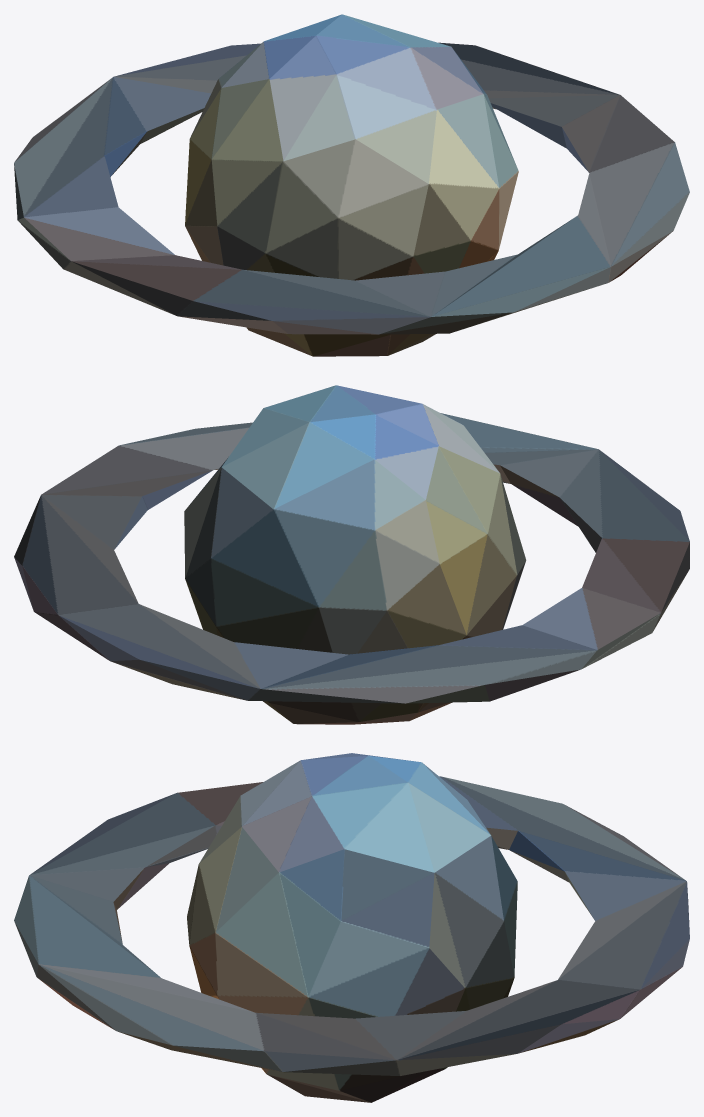
The model's file is saturn.fbx.
The picture shows the model from 3 angles, top to bottom: view 1: azimuth 30°, elevation 25°; view 2: azimuth 150°, elevation 25°; view 3: azimuth 270°, elevation 25°; orthographic projection.
Parts seen in each view (by area): view 1: Mesh_0; view 2: Mesh_0; view 3: Mesh_0.
Part boxes in pixels (x1,y1,x2,y2): Mesh_0: (14,14,689,356); Mesh_0: (14,385,689,724); Mesh_0: (14,753,689,1102).
Bounding box in the file's own units: 118 × 61.81 × 118.
Materials: 1 (1 with a texture image).
